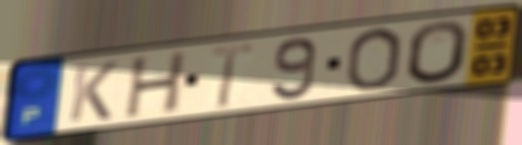9: (271, 37, 319, 101)
H: (121, 48, 191, 122)
K: (65, 60, 120, 124)
O: (405, 19, 471, 86), (342, 25, 406, 94)
T: (208, 40, 257, 112)
